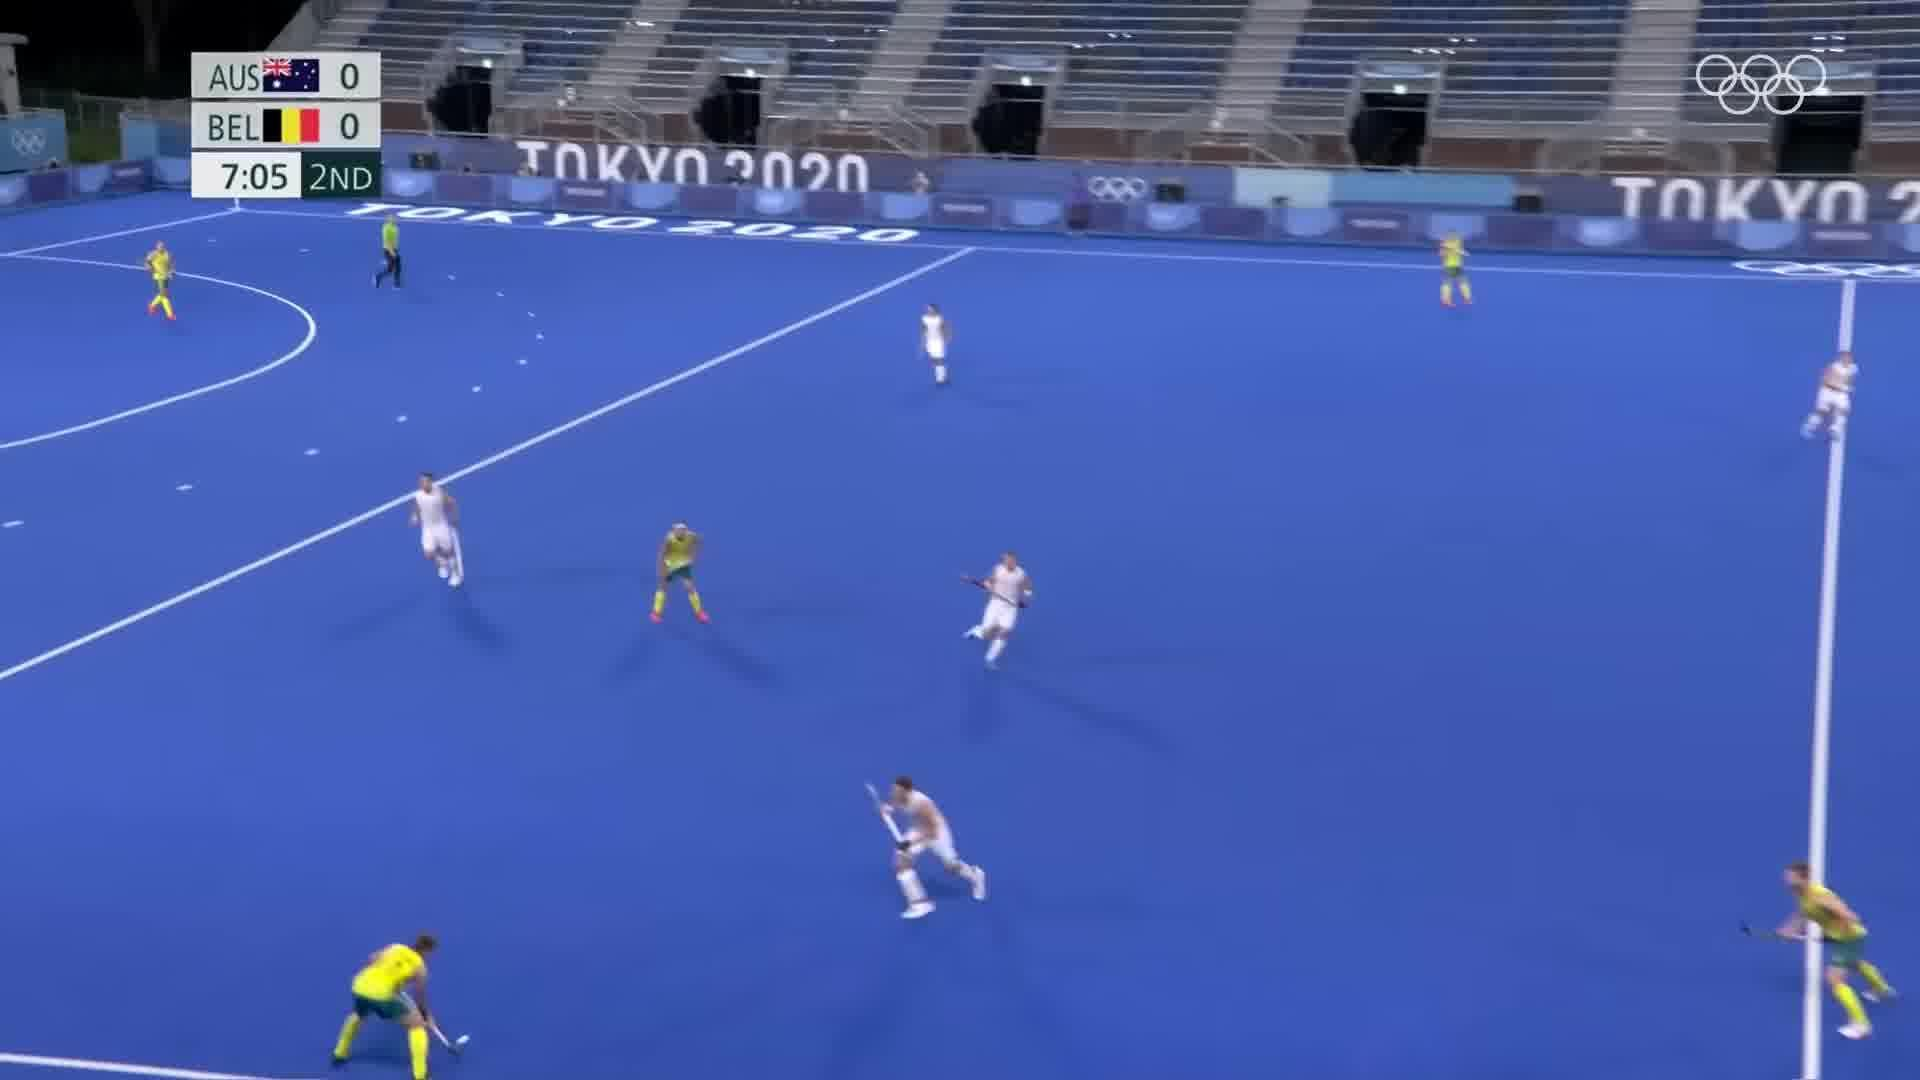ball: (449, 1024, 485, 1051)
